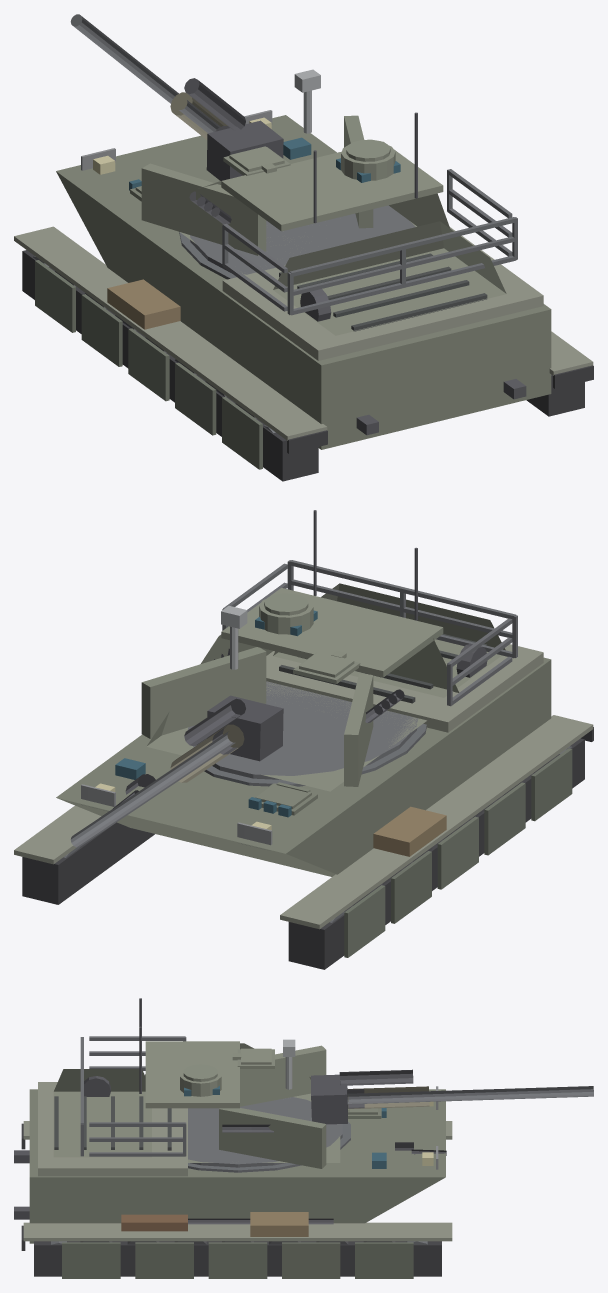
File: western_tank.glb
3 views of the same model, one above another, from view 1: azimuth 30°, elevation 25°; view 2: azimuth 150°, elevation 25°; view 3: azimuth 270°, elevation 25° (orthographic). The views are drawn at different scales.
Parts seen in each view (by area): view 1: hull, turret, skirt_l, fender_l, engine_deck, basket, turret_ring, mantlet, track_l, grille, stowage_l, barrel (+10 smaller); view 2: hull, turret, skirt_l, fender_l, turret_ring, engine_deck, basket, track_r, track_l, mantlet, barrel, stowage_l (+7 smaller); view 3: hull, turret, skirt_r, fender_r, engine_deck, turret_ring, track_r, basket, mantlet, barrel, stowage_r, muffler (+9 smaller).
Boxes of the visible parts, bbox=[...] form: hull: bbox=[56, 115, 551, 449]; turret: bbox=[141, 115, 506, 335]; skirt_l: bbox=[35, 260, 262, 469]; fender_l: bbox=[14, 226, 327, 440]; engine_deck: bbox=[222, 227, 543, 360]; basket: bbox=[222, 169, 517, 315]; turret_ring: bbox=[179, 205, 415, 279]; mantlet: bbox=[184, 78, 283, 180]; track_l: bbox=[22, 250, 318, 481]; grille: bbox=[279, 253, 487, 331]; stowage_l: bbox=[107, 279, 180, 329]; barrel: bbox=[70, 14, 220, 133]; hull: bbox=[56, 657, 551, 876]; turret: bbox=[141, 583, 505, 791]; skirt_l: bbox=[344, 748, 572, 957]; fender_l: bbox=[280, 715, 593, 929]; turret_ring: bbox=[188, 681, 426, 786]; engine_deck: bbox=[266, 642, 543, 732]; basket: bbox=[222, 560, 517, 706]; track_r: bbox=[22, 822, 154, 904]; track_l: bbox=[288, 738, 584, 969]; mantlet: bbox=[184, 695, 283, 761]; barrel: bbox=[70, 731, 235, 847]; stowage_l: bbox=[373, 806, 446, 856]; hull: bbox=[29, 1089, 445, 1243]; turret: bbox=[53, 1041, 340, 1168]; skirt_r: bbox=[62, 1242, 413, 1278]; fender_r: bbox=[23, 1222, 452, 1241]; engine_deck: bbox=[38, 1082, 187, 1176]; turret_ring: bbox=[188, 1097, 350, 1172]; track_r: bbox=[34, 1241, 441, 1276]; basket: bbox=[80, 1036, 186, 1156]; mantlet: bbox=[311, 1069, 413, 1124]; barrel: bbox=[347, 1086, 593, 1104]; stowage_r: bbox=[250, 1212, 308, 1236]; muffler: bbox=[121, 1214, 187, 1231].
Size of the model in its own units: 5.04 by 4.14 by 10.31.
